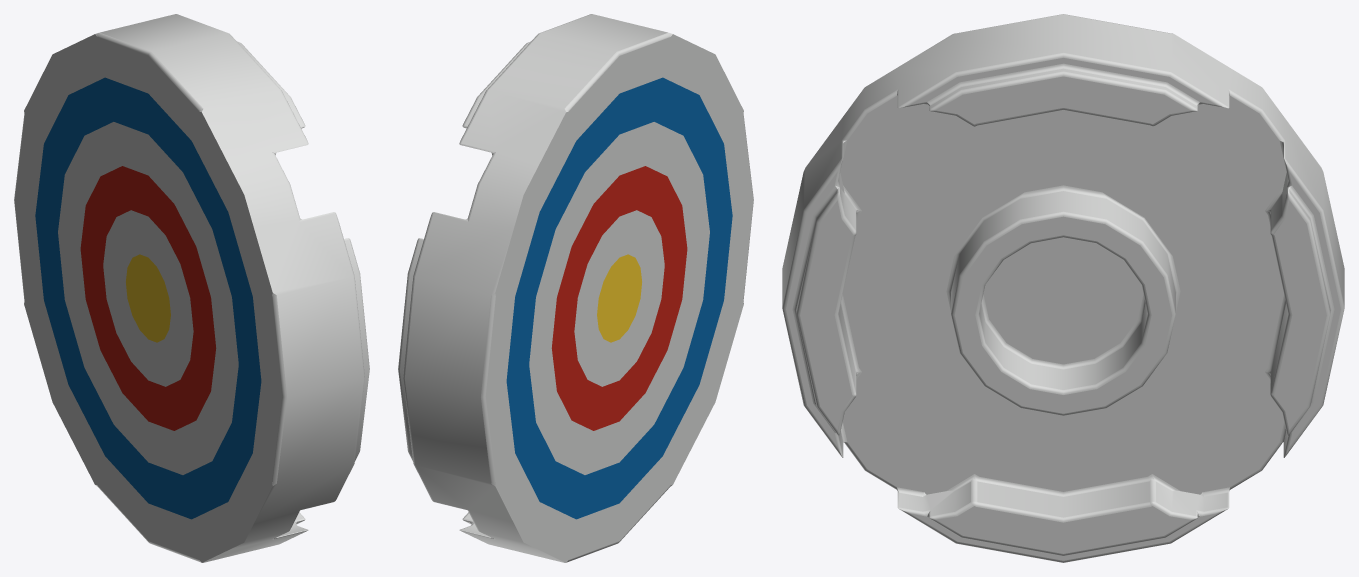
Rendered from target.fbx.
3 renders of one model, left to right at view 1: azimuth 30°, elevation 25°; view 2: azimuth 150°, elevation 25°; view 3: azimuth 270°, elevation 25°, orthographic. The views are drawn at different scales.
Parts seen in each view (by area): view 1: 00001_14769p09.dat; view 2: 00001_14769p09.dat; view 3: 00001_14769p09.dat.
Boxes of the visible parts, bbox=[...] form: 00001_14769p09.dat: bbox=[14, 14, 369, 562]; 00001_14769p09.dat: bbox=[398, 14, 753, 562]; 00001_14769p09.dat: bbox=[782, 14, 1344, 562].
Size of the model in its own units: 16 by 80 by 80.
